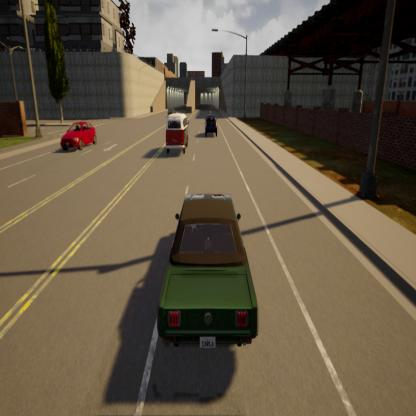Cars: (149, 189, 261, 348), (58, 117, 106, 158), (163, 114, 194, 158), (204, 112, 220, 138)
